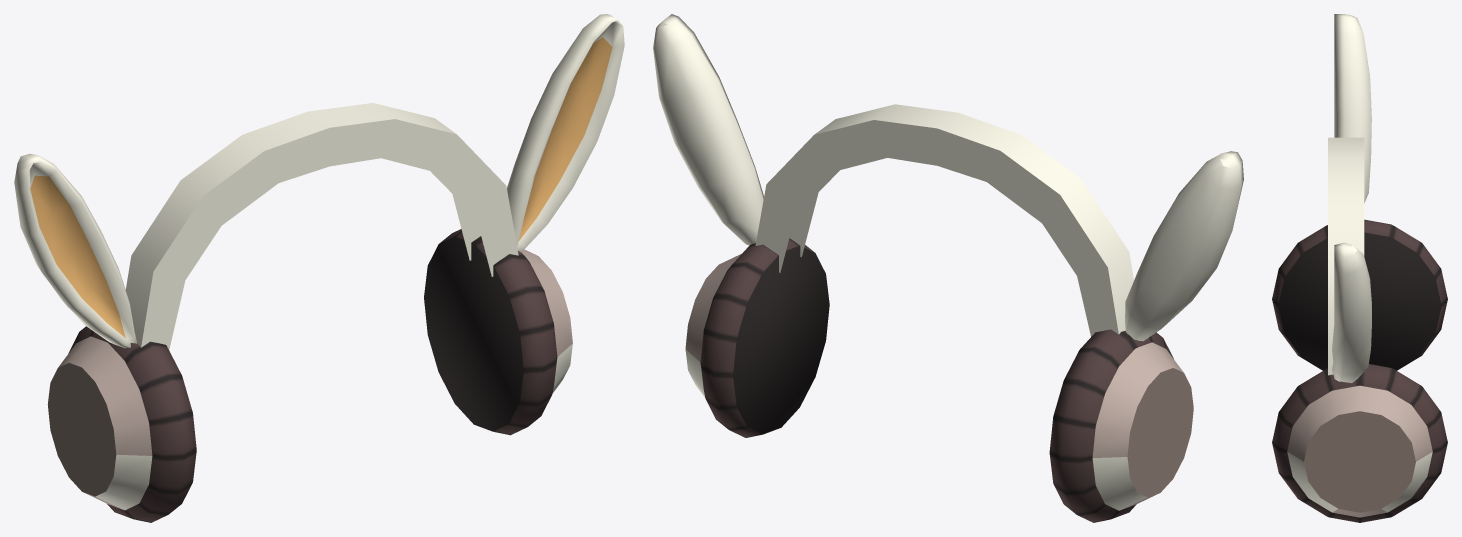
The model's file is top_acc_08.FBX.
3 views of the same model, side by side, from view 1: azimuth 30°, elevation 25°; view 2: azimuth 150°, elevation 25°; view 3: azimuth 270°, elevation 25° (orthographic). The views are drawn at different scales.
Parts seen in each view (by area): view 1: top_acc_08; view 2: top_acc_08; view 3: top_acc_08.
Part boxes in pixels (x1,y1,x2,y2): top_acc_08: [14, 14, 624, 522]; top_acc_08: [653, 14, 1243, 522]; top_acc_08: [1272, 14, 1447, 522].
Bounding box in the file's own units: 48.7 × 30.24 × 15.04.
